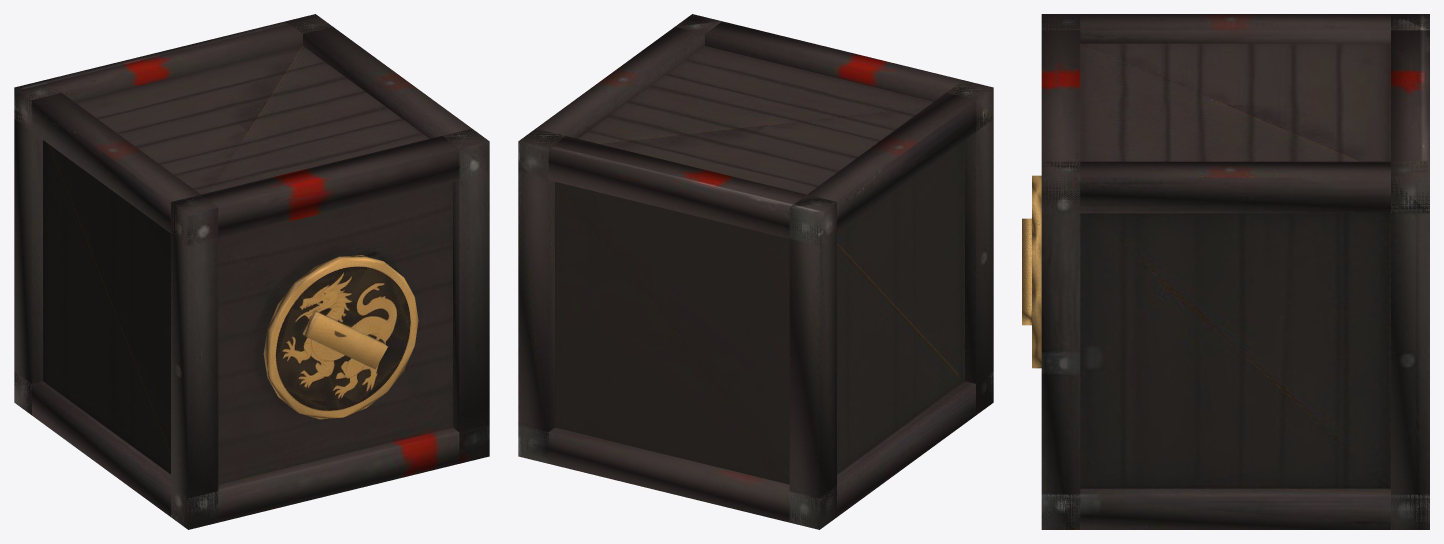
File: crate_saerith.glb
The picture shows the model from 3 angles, left to right: view 1: azimuth 30°, elevation 25°; view 2: azimuth 150°, elevation 25°; view 3: azimuth 270°, elevation 25°; orthographic projection. The views are drawn at different scales.
Parts seen in each view (by area): view 1: crate_saerith; view 2: crate_saerith; view 3: crate_saerith.
Part boxes in pixels (left/top/right/bottom): crate_saerith: left=14, top=14, right=489, bottom=529; crate_saerith: left=518, top=14, right=993, bottom=529; crate_saerith: left=1022, top=14, right=1429, bottom=529.
Size of the model in its own units: 0.8 by 0.8 by 0.84.
1 material, 1 textured.
